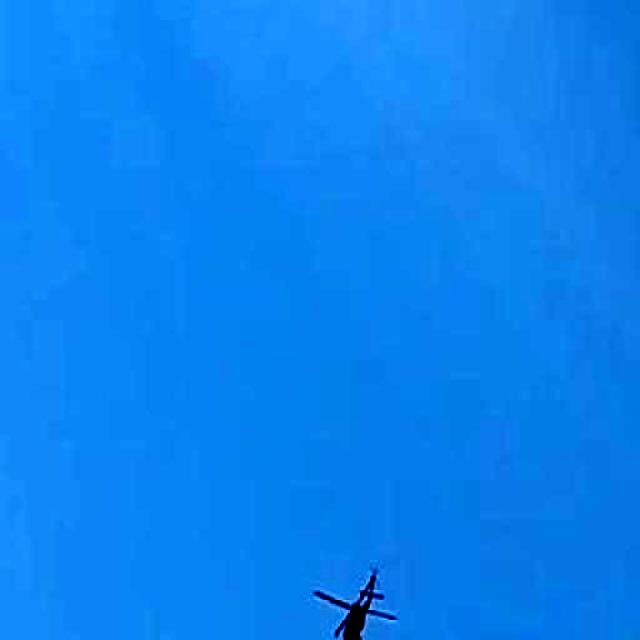drone: (309, 552, 415, 640)
